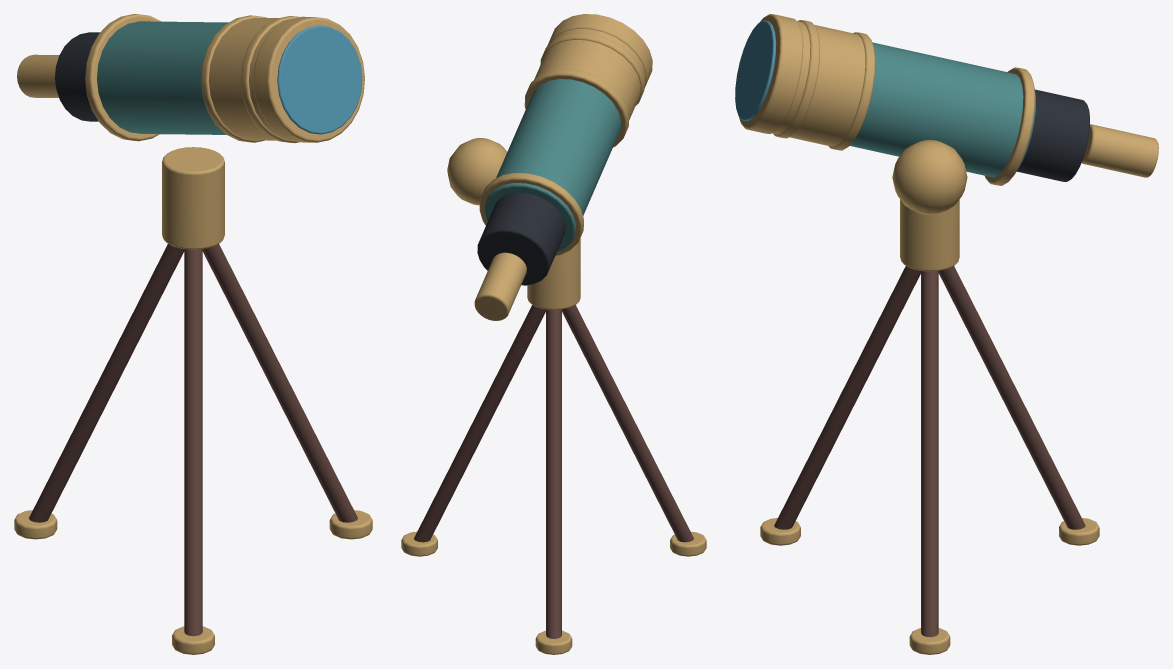
The model's file is telescope.glb.
3 renders of one model, left to right at view 1: azimuth 30°, elevation 25°; view 2: azimuth 150°, elevation 25°; view 3: azimuth 270°, elevation 25°, orthographic. The views are drawn at different scales.
Visible parts, largest first — view 1: telescope; view 2: telescope; view 3: telescope.
Boxes of the visible parts, x1,y1,x2,y2 form: telescope: (14,14,372,654); telescope: (401,14,706,654); telescope: (735,14,1158,654).
Size of the model in its own units: 0.955 by 2 by 1.35.
